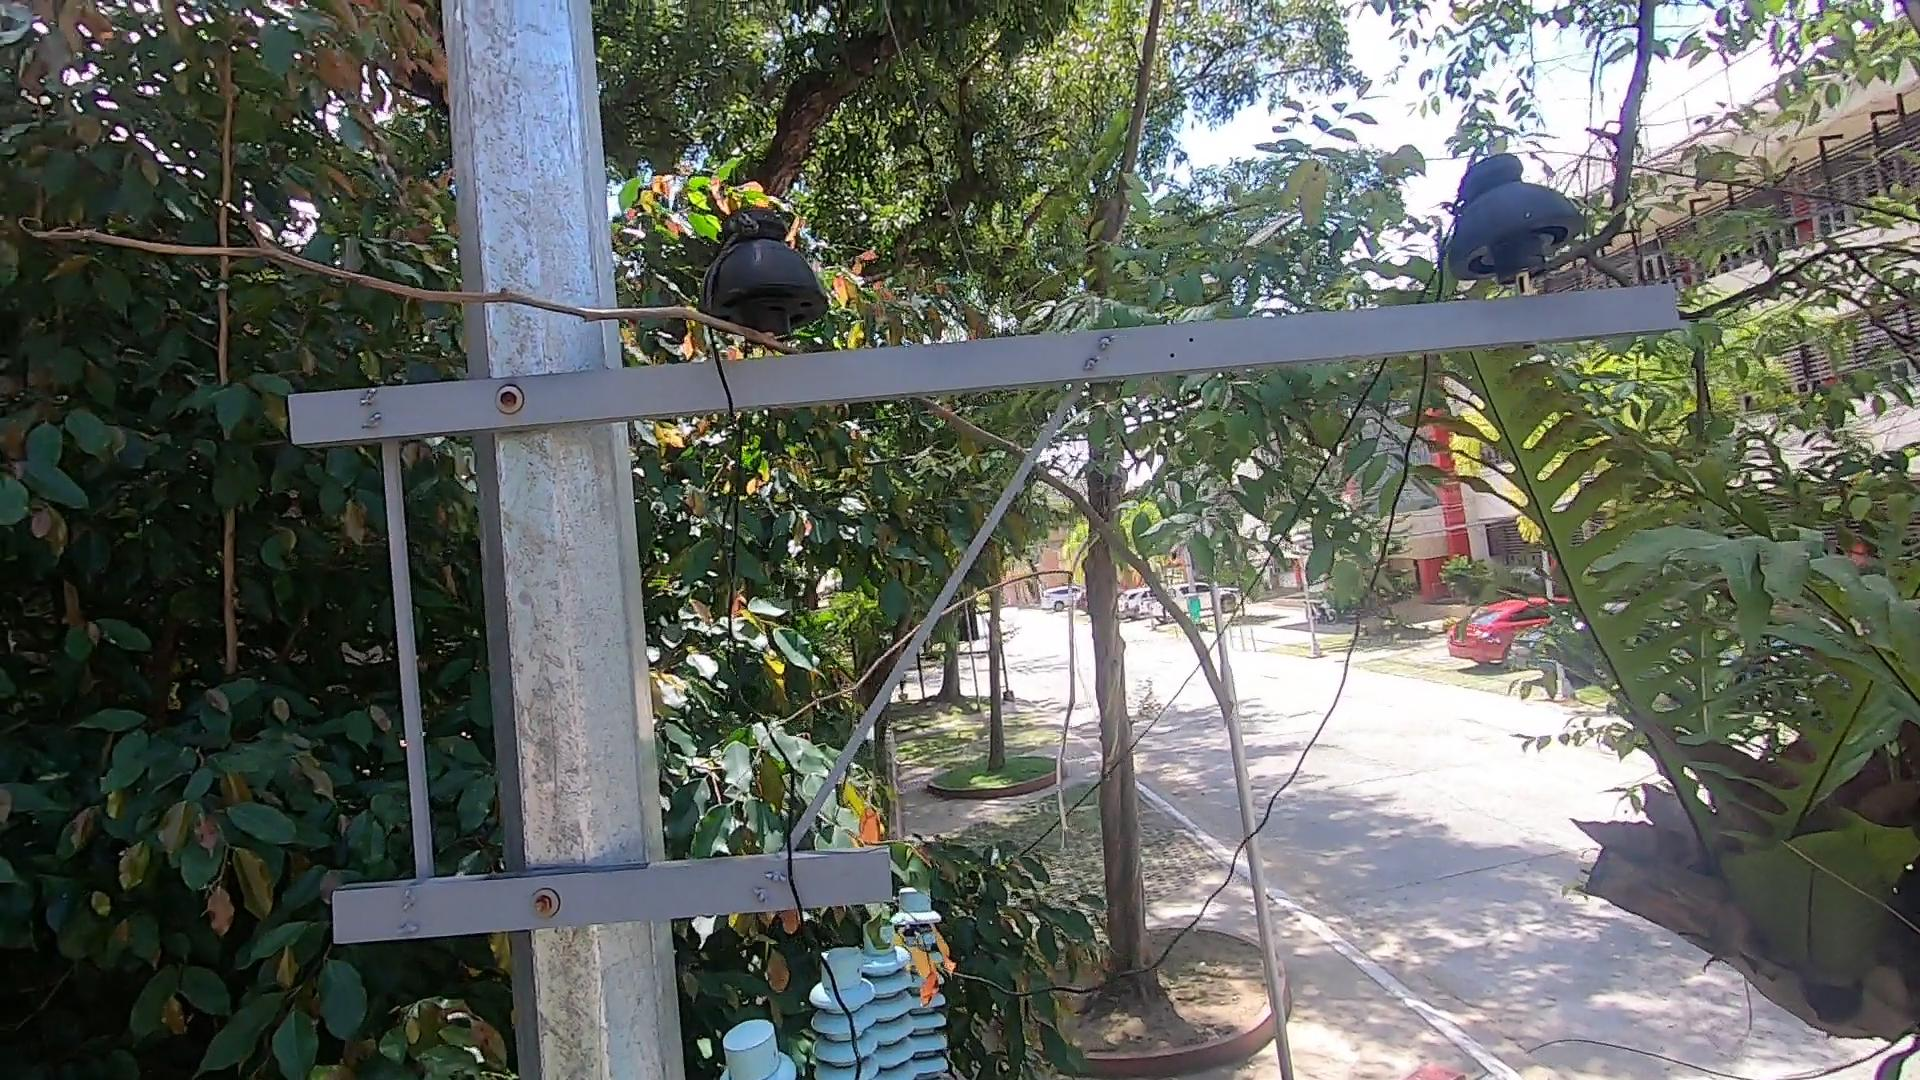leaf: (897, 916, 964, 1025)
tree branch: (15, 200, 1247, 736)
